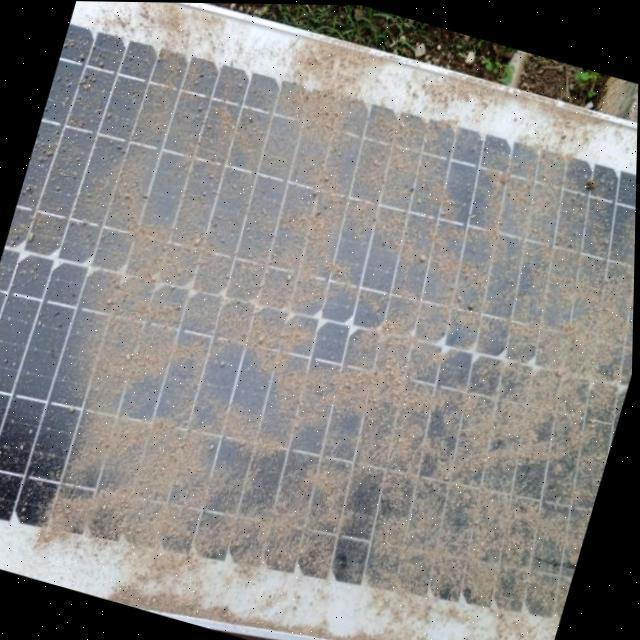Surface Contaminant: (53, 24, 638, 640)
